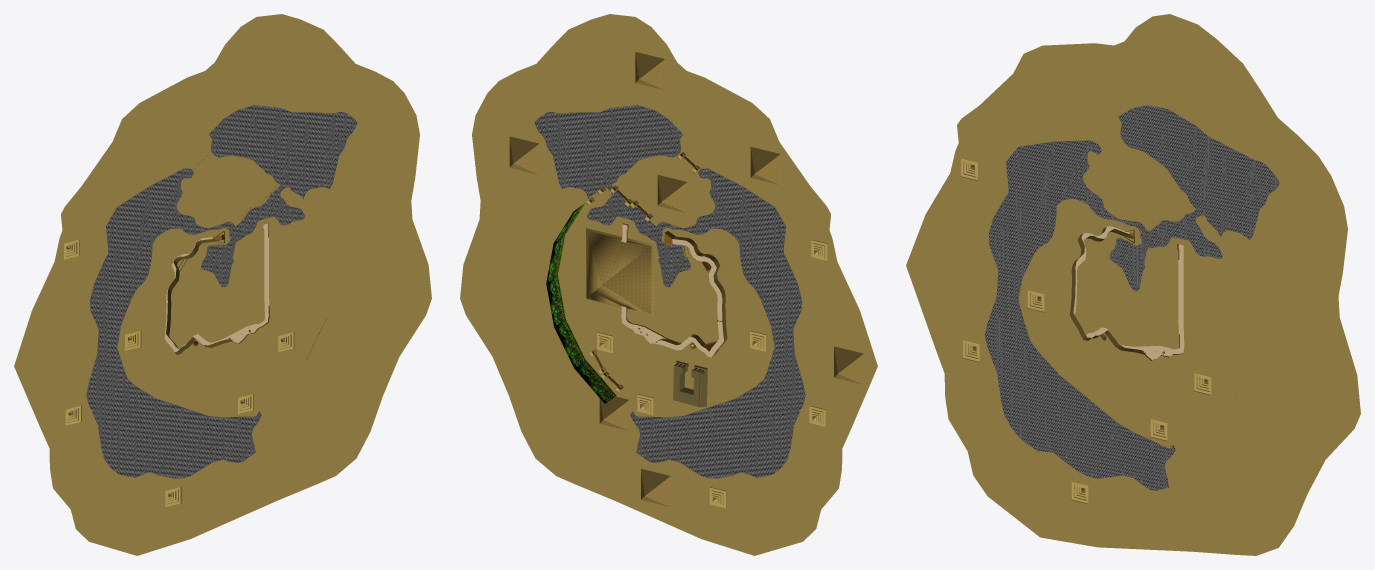
3 renders of one model, left to right at view 1: azimuth 30°, elevation 25°; view 2: azimuth 150°, elevation 25°; view 3: azimuth 330°, elevation 25°, orthographic. The views are drawn at different scales.
Parts seen in each view (by area): view 1: v1_Main_solidfall, v1_Main_fallboundary, v1_Main_off_road_x2, v1_Main_wall_3, Untitled_GRP_113336_Material5, Untitled_GRP_113593_Material1; view 2: v1_Main_solidfall, v1_Main_fallboundary, v1_Main_wall, v1_Main_wall_14, v1_Main_off_road_x2, v1_Main_wall_3, Untitled_GRP_113336_Material5, v1_c_Temple_of_Hathor_Egypt_stone_wall_01, Untitled_GRP_113593_Material1, v1_Main_wall_9; view 3: v1_Main_solidfall, v1_Main_fallboundary, v1_Main_off_road_x2, v1_Main_wall_3, Untitled_GRP_113336_Material5, Untitled_GRP_113593_Material1.
Boxes of the visible parts, <box> form: v1_Main_solidfall: <box>14,14,431,555</box>; v1_Main_fallboundary: <box>86,105,357,478</box>; v1_Main_off_road_x2: <box>258,200,334,409</box>; v1_Main_wall_3: <box>64,239,294,507</box>; Untitled_GRP_113336_Material5: <box>164,223,268,351</box>; Untitled_GRP_113593_Material1: <box>166,223,269,355</box>; v1_Main_solidfall: <box>460,14,877,555</box>; v1_Main_fallboundary: <box>534,105,805,478</box>; v1_Main_wall: <box>509,52,863,506</box>; v1_Main_wall_14: <box>546,203,616,403</box>; v1_Main_off_road_x2: <box>558,203,653,409</box>; v1_Main_wall_3: <box>597,239,827,508</box>; Untitled_GRP_113336_Material5: <box>621,224,723,357</box>; v1_c_Temple_of_Hathor_Egypt_stone_wall_01: <box>673,360,707,406</box>; Untitled_GRP_113593_Material1: <box>622,223,727,356</box>; v1_Main_wall_9: <box>586,152,700,392</box>; v1_Main_solidfall: <box>906,14,1360,555</box>; v1_Main_fallboundary: <box>984,105,1279,490</box>; v1_Main_off_road_x2: <box>1171,238,1254,443</box>; v1_Main_wall_3: <box>960,158,1211,503</box>; Untitled_GRP_113336_Material5: <box>1073,226,1184,360</box>; Untitled_GRP_113593_Material1: <box>1070,227,1182,360</box>.
Bounding box in the file's own units: 389958 × 454673 × 30669.
Materials: 28 (27 with a texture image).
